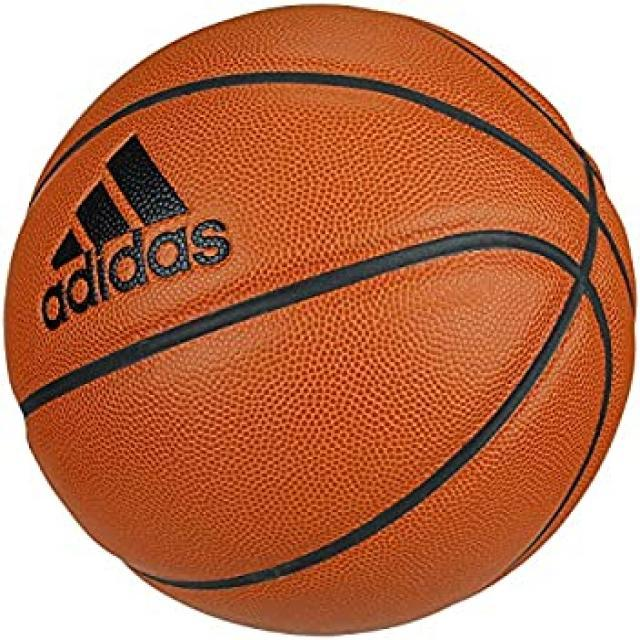Adidas: (42, 133, 234, 331)
